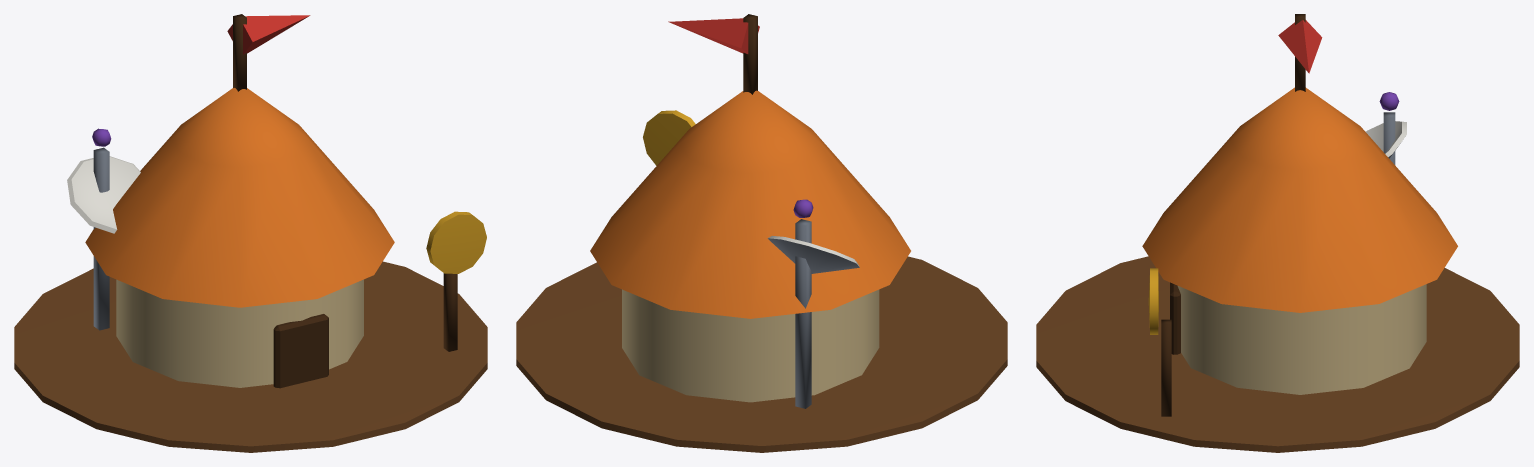
3 views of the same model, side by side, from view 1: azimuth 30°, elevation 25°; view 2: azimuth 150°, elevation 25°; view 3: azimuth 270°, elevation 25° (orthographic). The views are drawn at different scales.
Parts seen in each view (by area): view 1: vila_0_base, vila_1_torreta; view 2: vila_0_base, vila_1_torreta; view 3: vila_0_base, vila_1_torreta.
Boxes of the visible parts, <box> form: vila_0_base: <box>14,88,487,452</box>; vila_1_torreta: <box>227,14,310,91</box>; vila_0_base: <box>516,90,1007,452</box>; vila_1_torreta: <box>668,14,759,94</box>; vila_0_base: <box>1036,87,1519,452</box>; vila_1_torreta: <box>1278,14,1322,91</box>.
Size of the model in its own units: 1.32 by 0.993 by 1.3.
